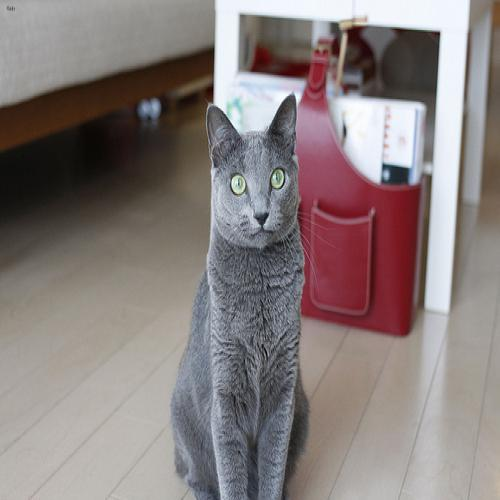rblue: (206, 91, 319, 256)
